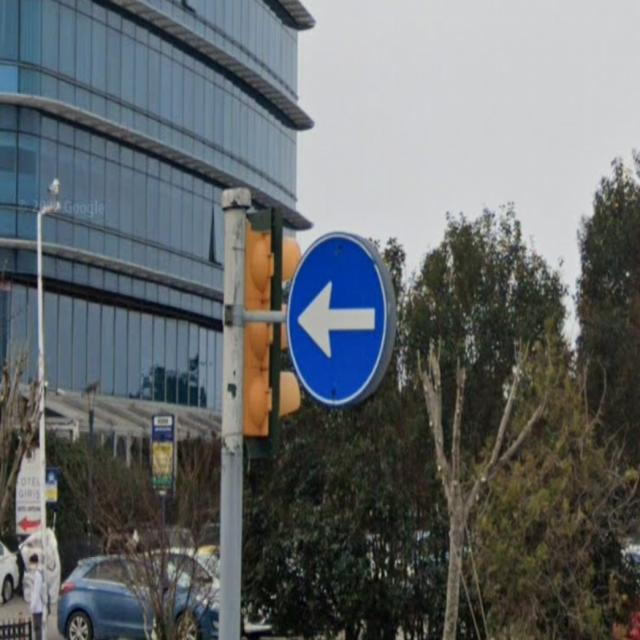Turn Left: (288, 231, 392, 419)
